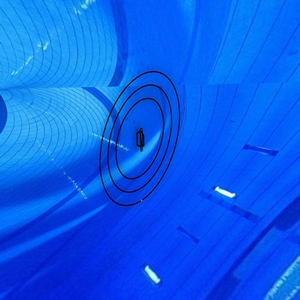circle: (96, 68, 182, 215)
submarine: (133, 125, 151, 154)
